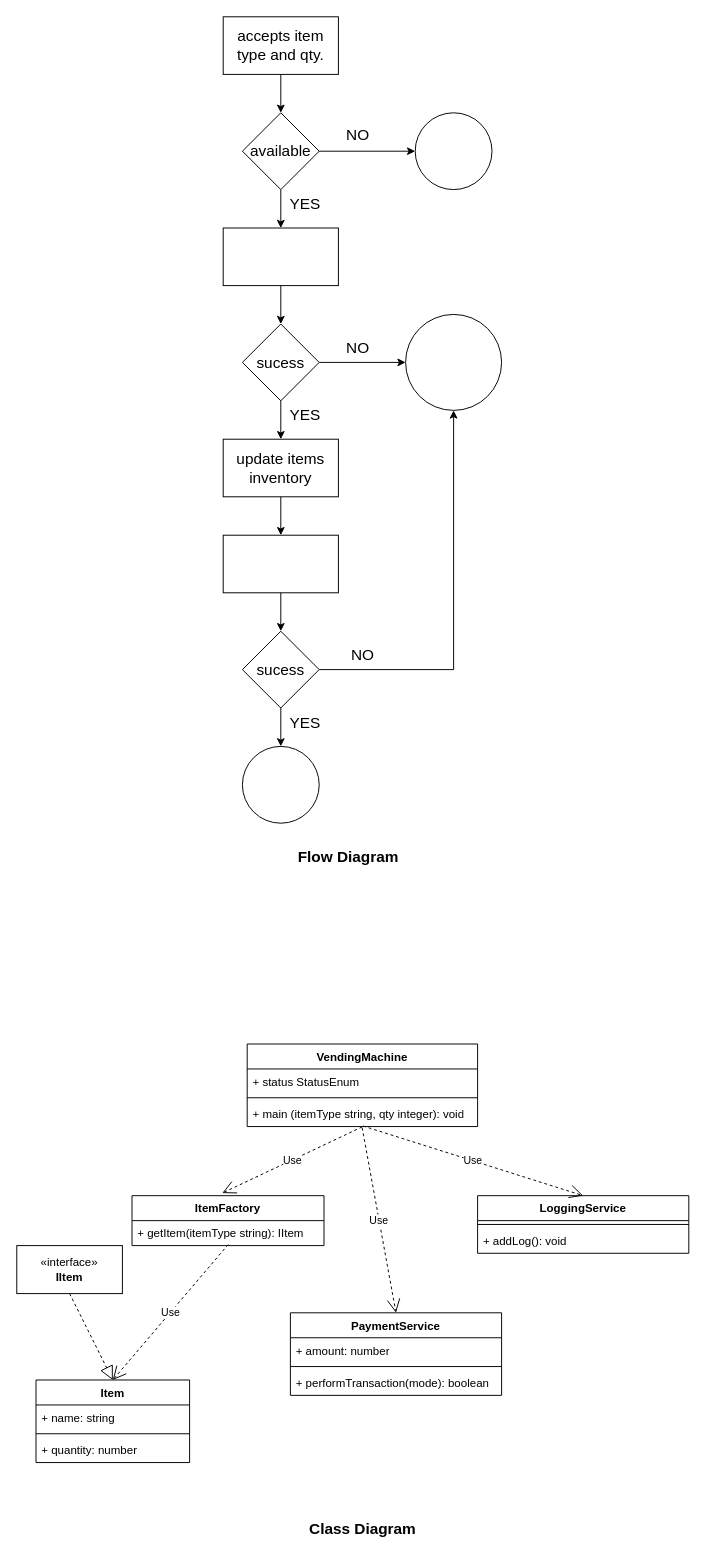
Image size: 706x1560. Some labels were removed from this diagram. Each missing label, with the centre of its shape:
"accepts payment" belongs at (x=280, y=256).
"Inform user" belongs at (x=453, y=151).
"Inform user and process refund" belongs at (x=453, y=361).
"item sold" belongs at (x=280, y=784).
"log transaction" belongs at (x=280, y=563).
